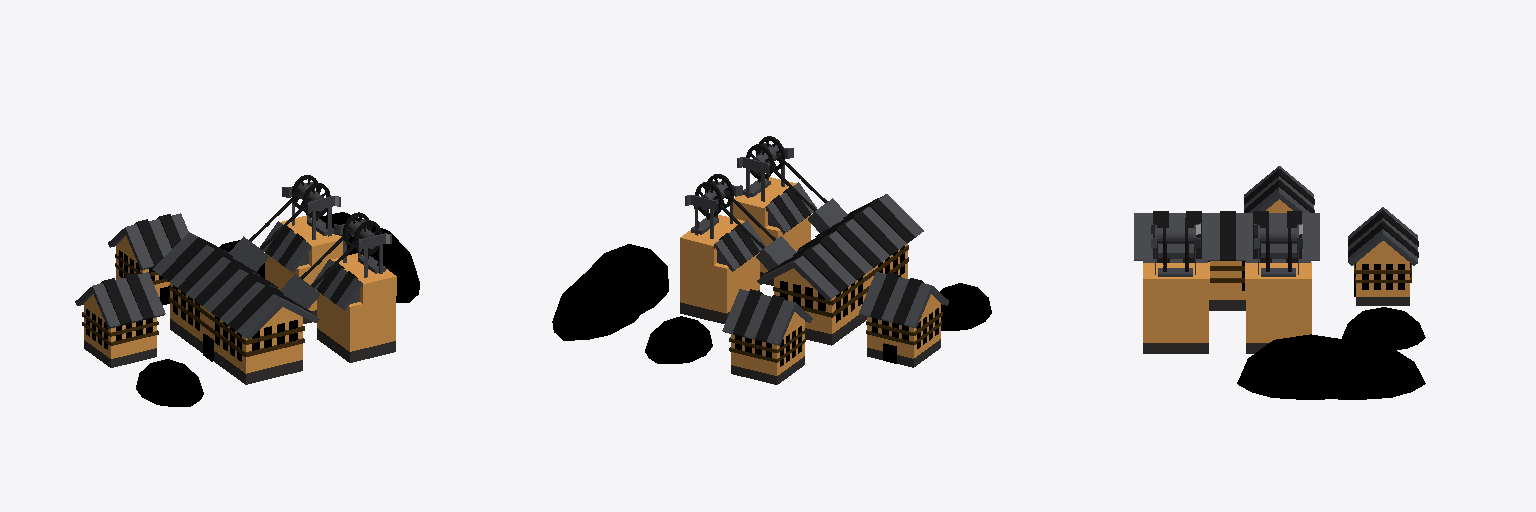
The model's file is city_coal_mine.obj.
The picture shows the model from 3 angles: view 1: azimuth 30°, elevation 25°; view 2: azimuth 150°, elevation 25°; view 3: azimuth 270°, elevation 25°; orthographic projection.
Parts seen in each view (by area): view 1: mergedBlocks; view 2: mergedBlocks; view 3: mergedBlocks.
Part boxes in pixels (x1,y1,x2,y2): mergedBlocks: (75, 175, 419, 406); mergedBlocks: (552, 136, 991, 384); mergedBlocks: (1134, 166, 1425, 399).
Bounding box in the file's own units: 3.68 × 1.35 × 2.81.